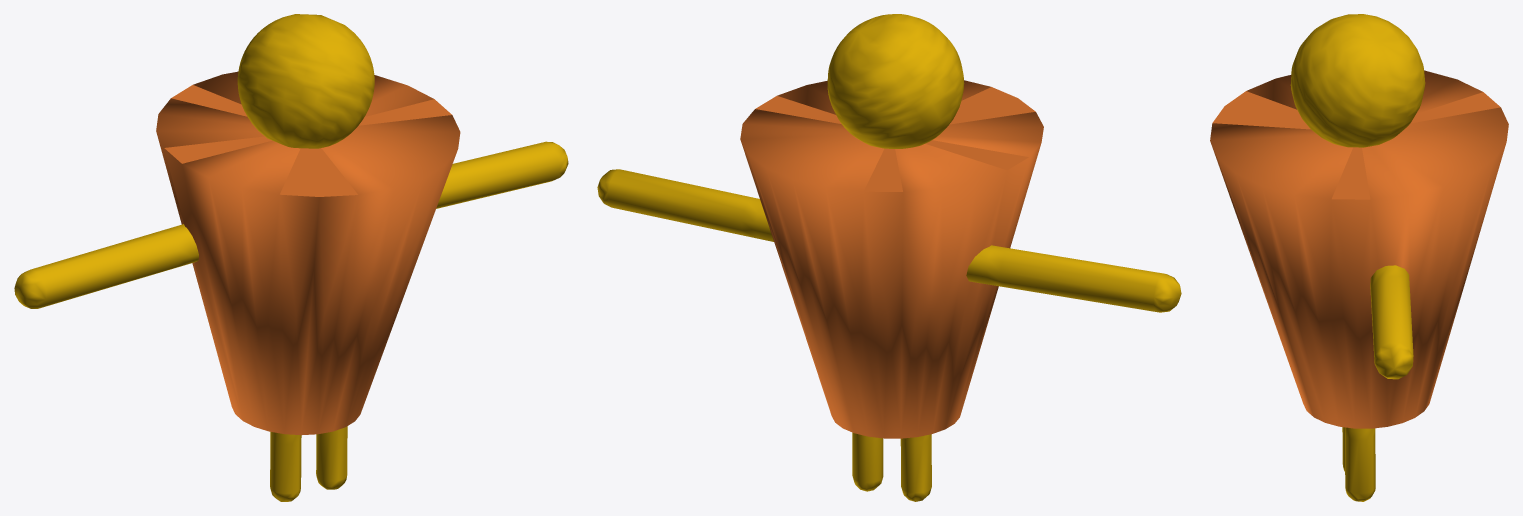
The model's file is guest7.fbx.
3 views of the same model, side by side, from view 1: azimuth 30°, elevation 25°; view 2: azimuth 150°, elevation 25°; view 3: azimuth 270°, elevation 25° (orthographic).
Parts seen in each view (by area): view 1: guest7; view 2: guest7; view 3: guest7.
Part boxes in pixels (left/top/right/bottom): guest7: left=14, top=14, right=568, bottom=501; guest7: left=597, top=14, right=1181, bottom=501; guest7: left=1210, top=14, right=1508, bottom=501.
Size of the model in its own units: 196 by 158 by 91.47.
